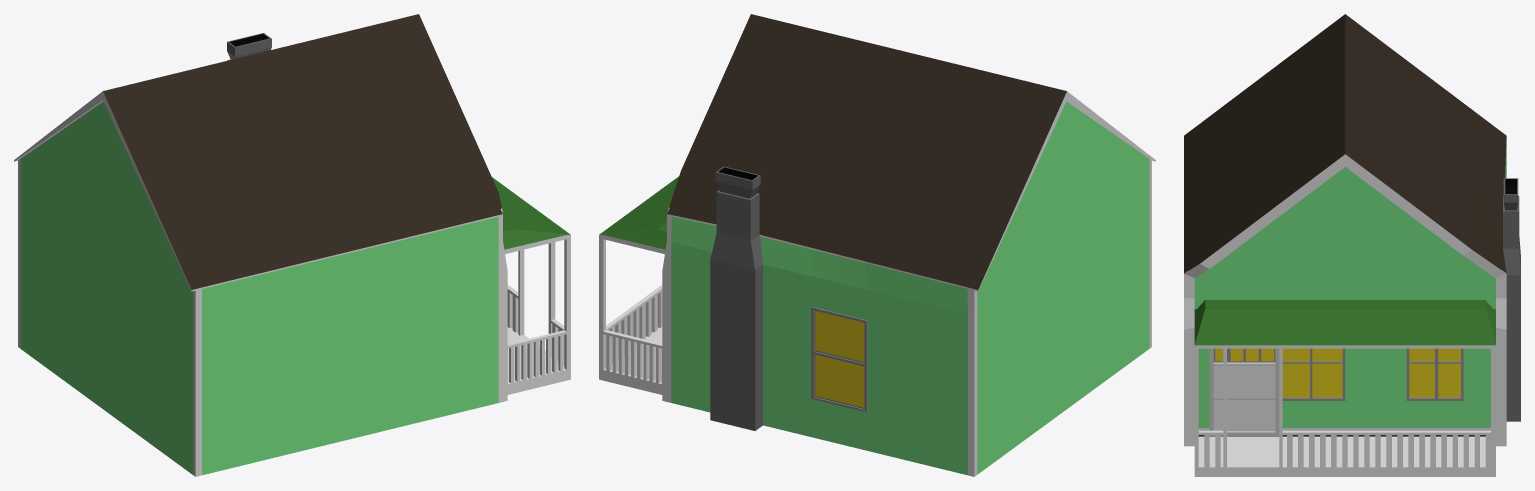
The model's file is Home.fbx.
3 views of the same model, side by side, from view 1: azimuth 30°, elevation 25°; view 2: azimuth 150°, elevation 25°; view 3: azimuth 270°, elevation 25° (orthographic). The views are drawn at different scales.
Visible parts, largest first — view 1: Cube; view 2: Cube; view 3: Cube.
Part boxes in pixels (x1,y1,x2,y2): Cube: [14, 14, 570, 476]; Cube: [599, 14, 1155, 476]; Cube: [1184, 14, 1520, 476].
Bounding box in the file's own units: 610 × 487 × 509.
